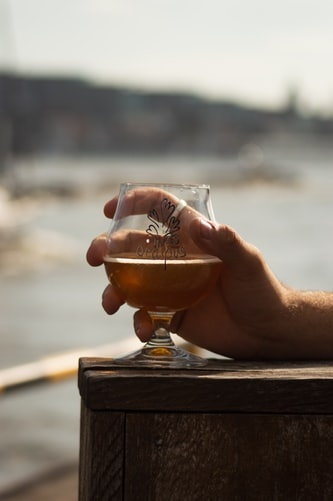whiskey: (106, 181, 223, 359)
